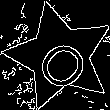O_NE: (25, 23, 94, 89)
